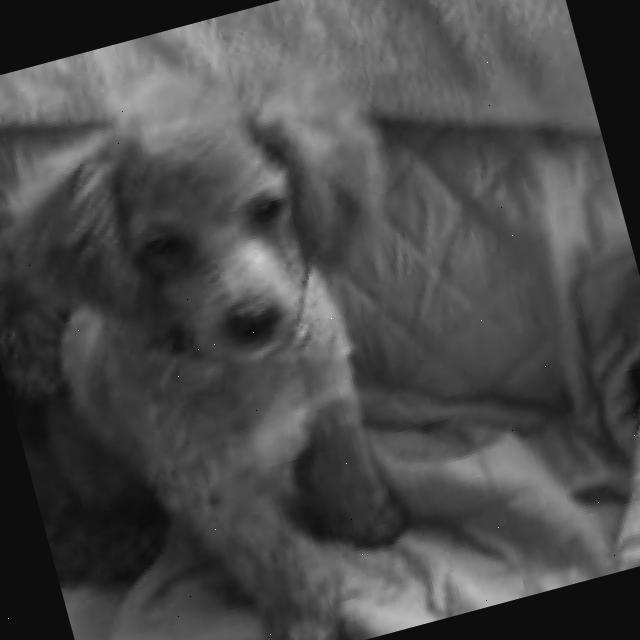Poodle_dog: (0, 6, 462, 470)
